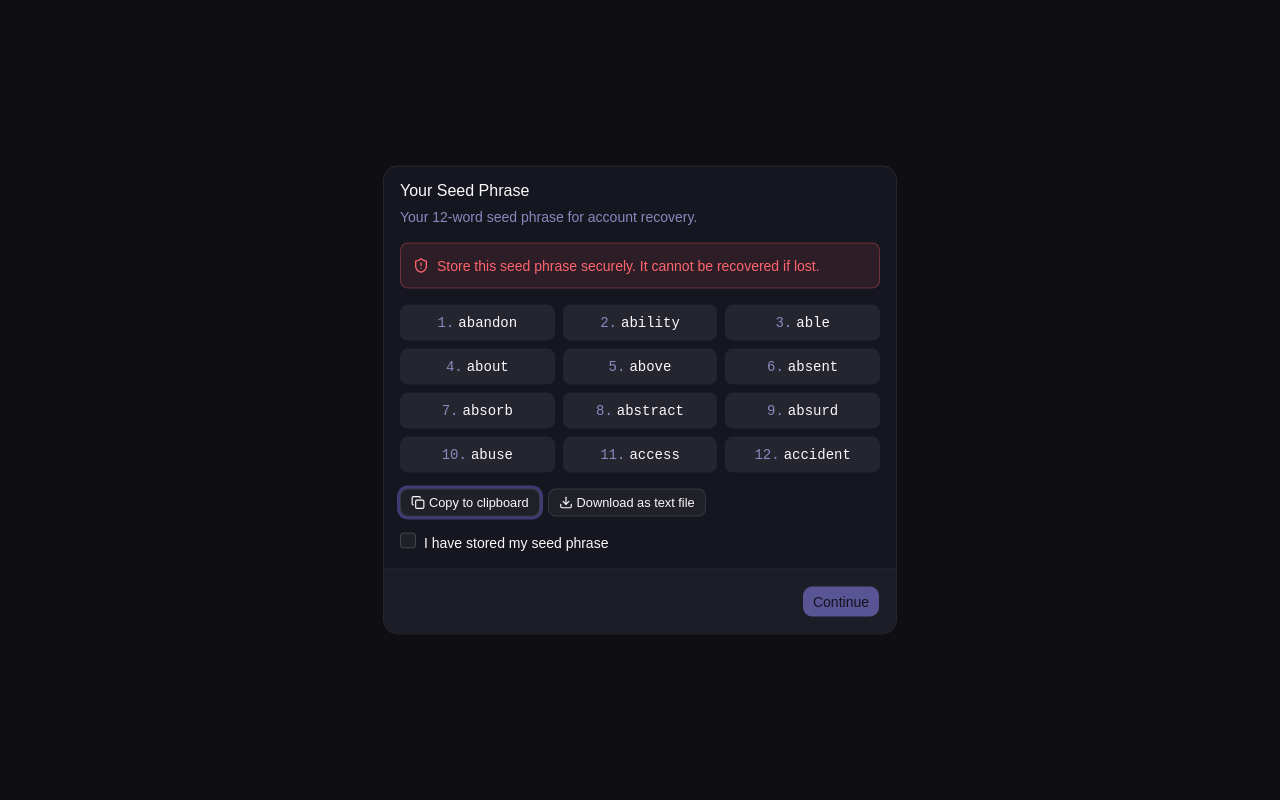
Test: MnemonicDialog › enables continue button when checkbox is checked
This screenshot has width=1280, height=800.
Click the 1st checkbox at (408, 540), box [400,532,416,548]
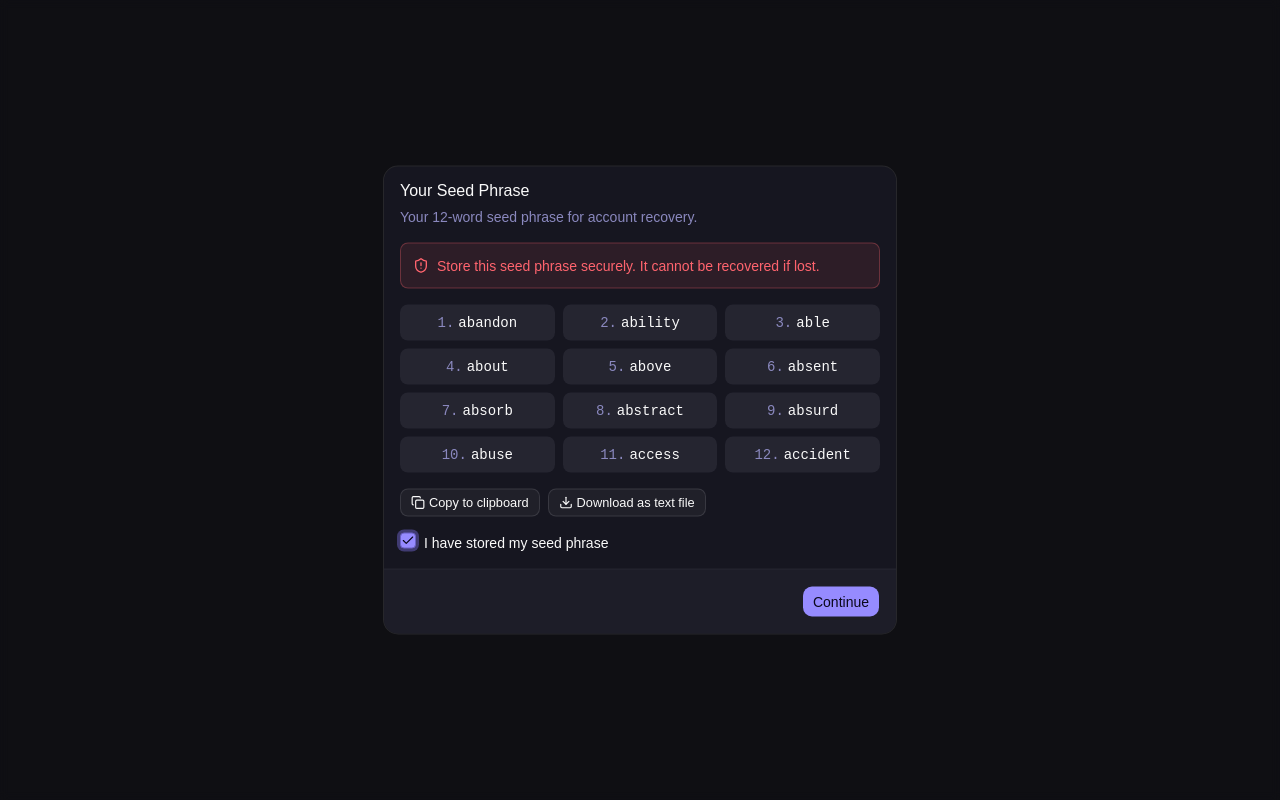
Expected: the button "Continue" is enabled, [802,586,880,618]
